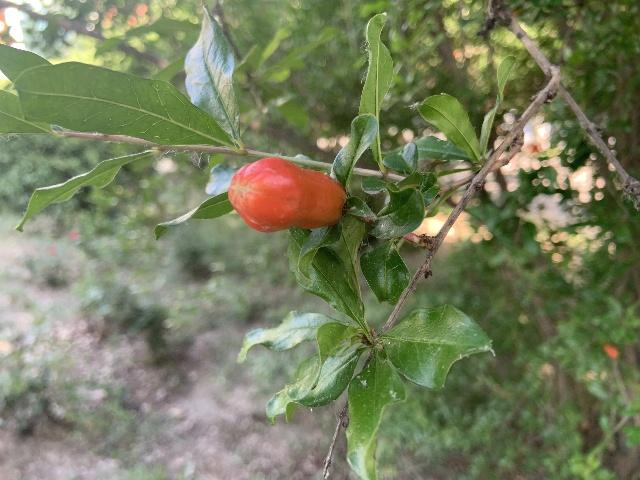bud: (227, 157, 345, 233)
